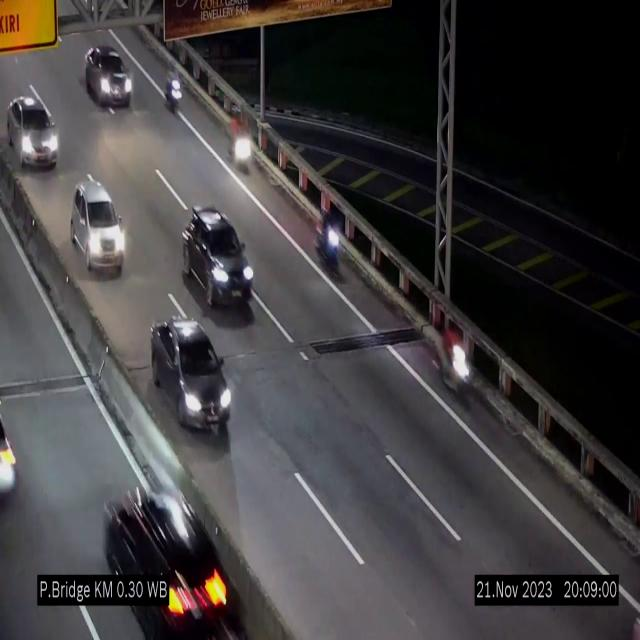Car: (98, 479, 234, 640), (151, 318, 231, 444), (183, 206, 255, 316), (71, 180, 126, 273), (5, 92, 60, 173), (86, 45, 132, 107)
Motorcycle: (433, 312, 470, 408), (318, 202, 346, 276), (228, 99, 254, 172), (162, 56, 184, 120)
